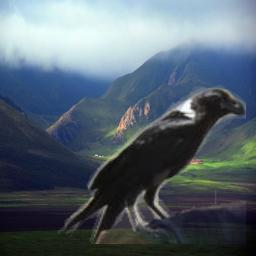Crow: (56, 82, 246, 244)
